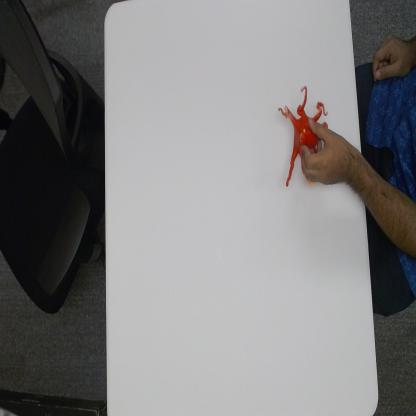Hand: (298, 114, 353, 188)
Octopus: (277, 82, 330, 190)
